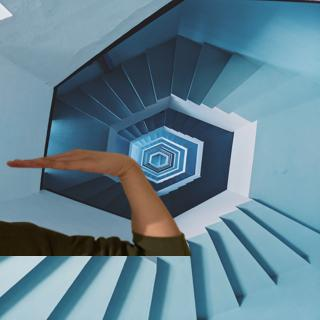WAIT: (1, 144, 128, 179)
